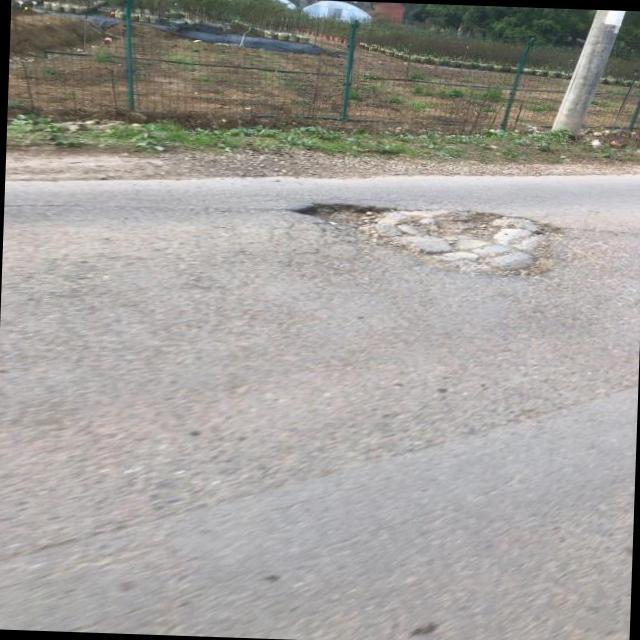Pothole: (300, 201, 563, 274)
